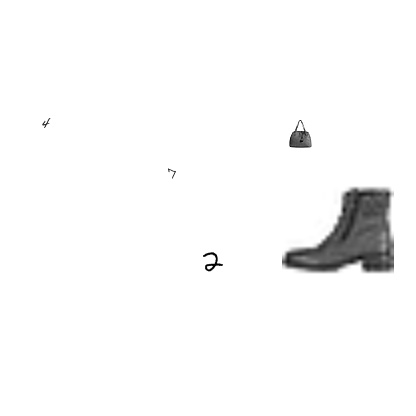2: (198, 248, 226, 276)
4: (39, 116, 53, 130)
7: (165, 165, 179, 179)
Ankle_boot: (282, 172, 394, 284)
Bag: (286, 120, 314, 148)
Pullover: (329, 179, 343, 193)
